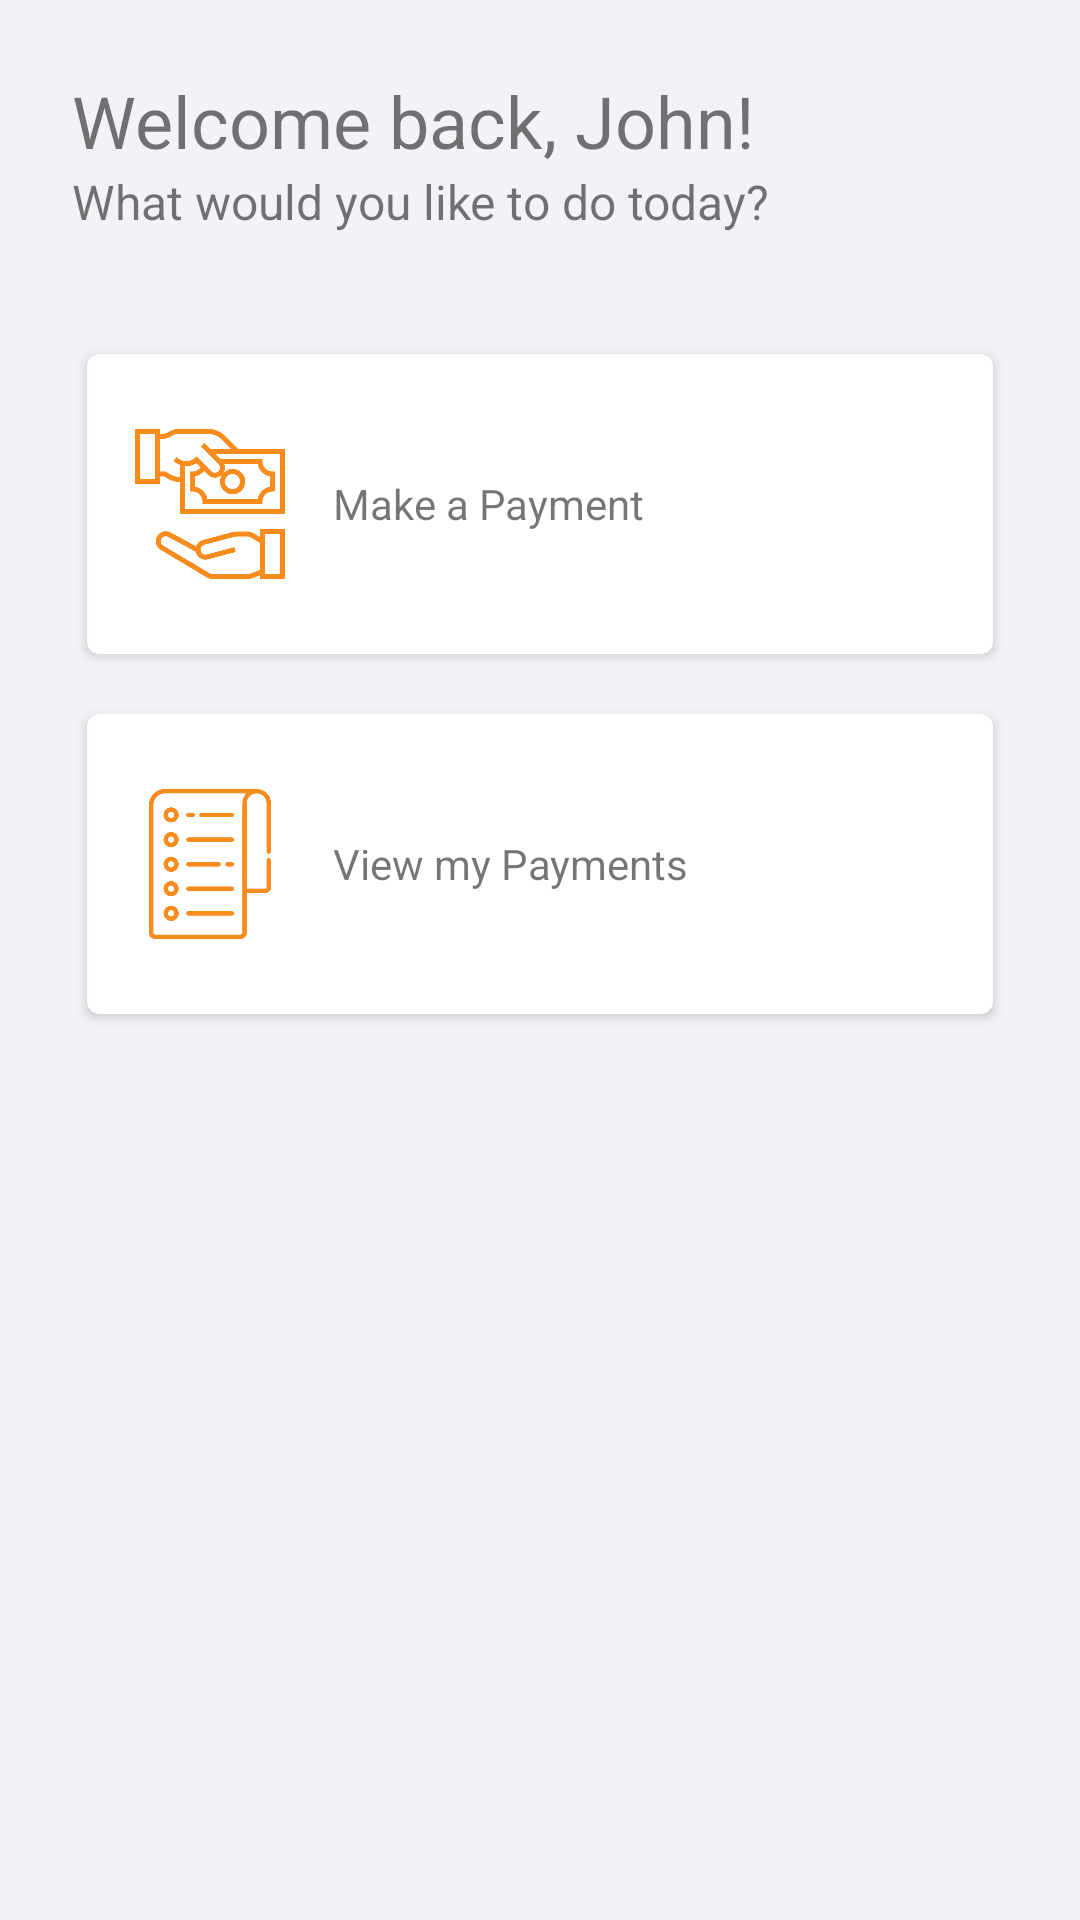

Point at icon controls on the screen. Image size 1080 x 1920, points as point (x, y).
list: point (210, 864)
pay: point (210, 504)
